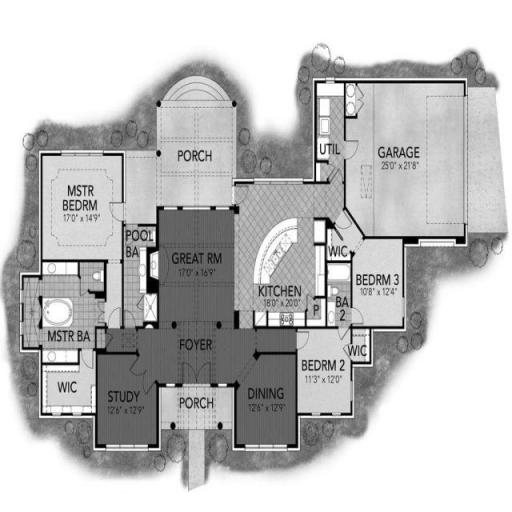Room: (96, 353, 163, 446), (243, 371, 305, 444)
bathroom: (26, 280, 106, 354)
bedroom: (43, 152, 117, 260), (299, 331, 349, 419), (352, 243, 404, 322)
garage: (344, 96, 460, 238)
hall: (164, 212, 231, 314)
kitchen: (237, 187, 330, 319)
porch: (153, 99, 234, 203)
